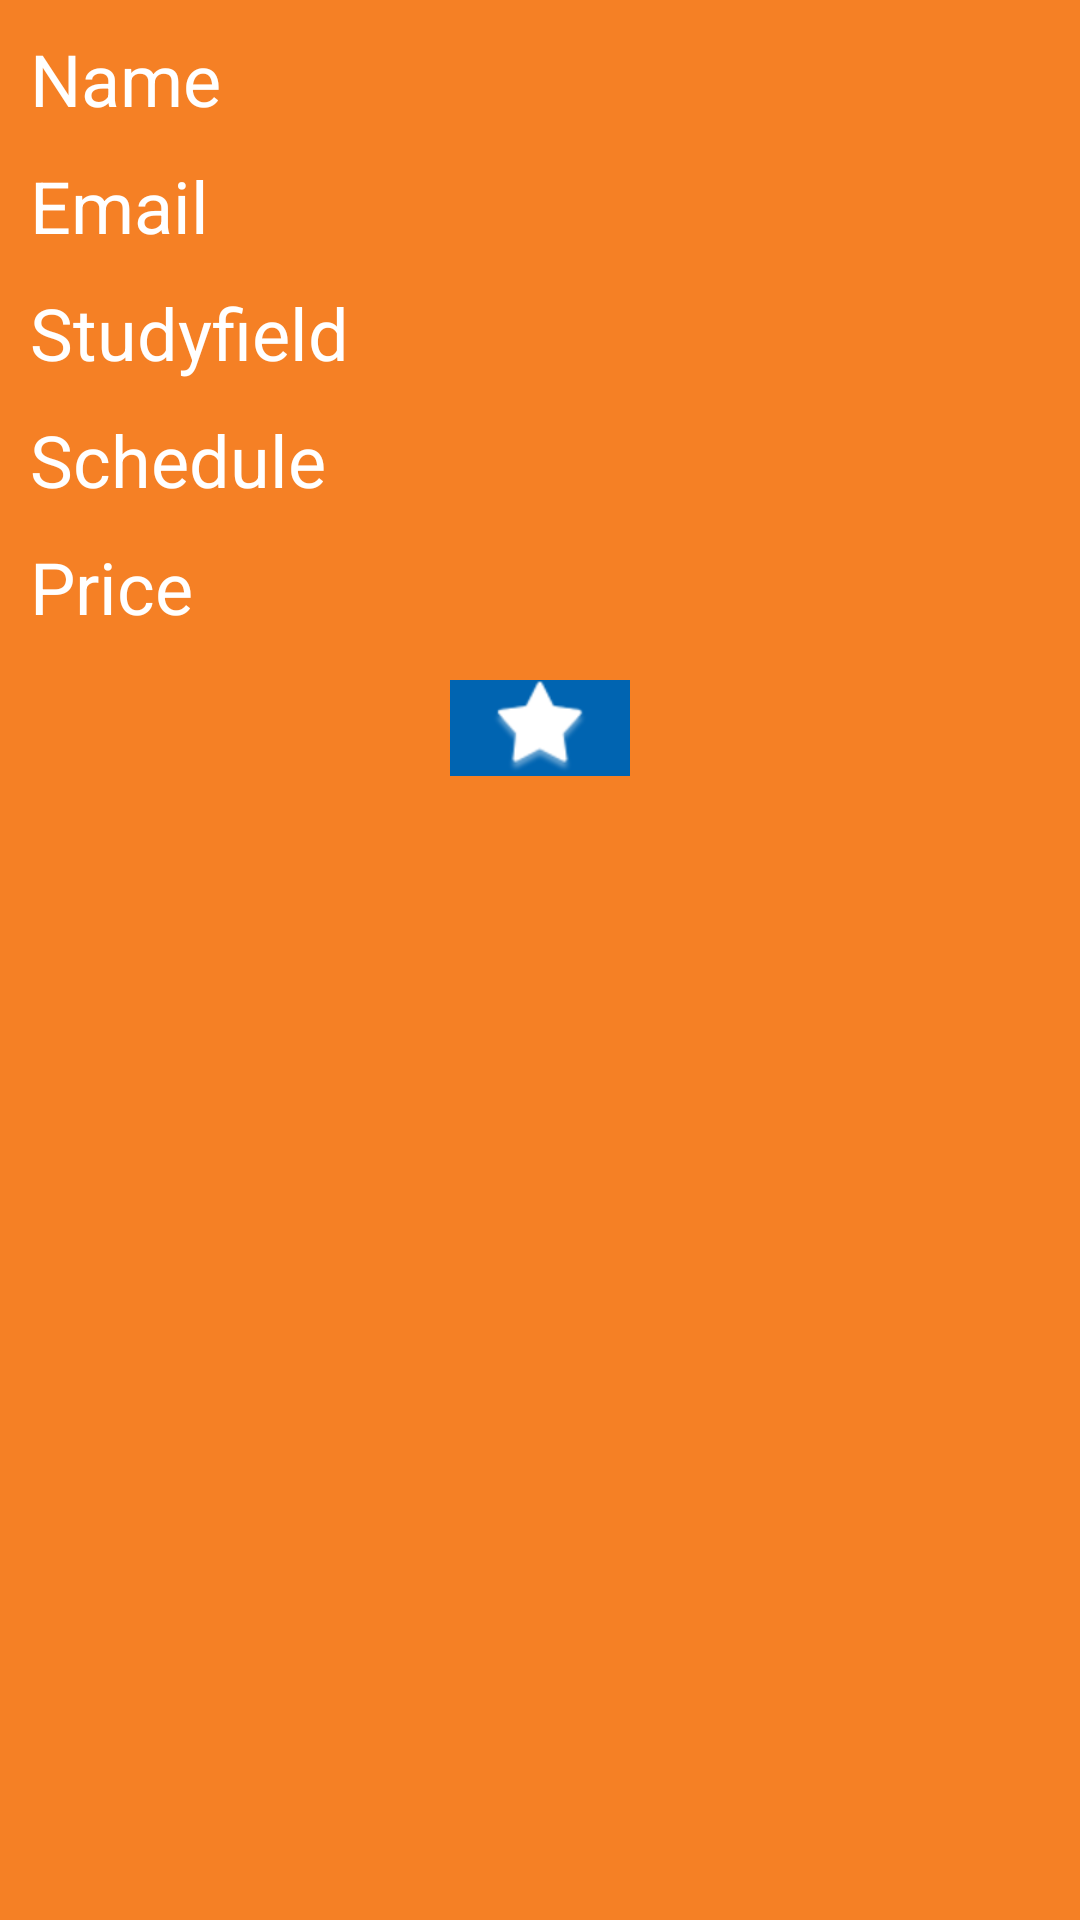

Screen size 1080px x 1920px. Icon name, then its center in pixels as [x,y]:
star on: [540,728]
